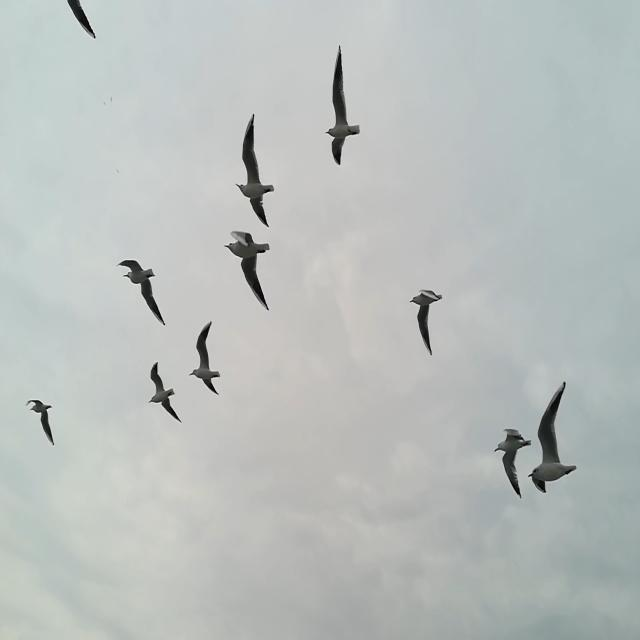bird: (526, 381, 576, 497), (235, 113, 276, 229), (324, 46, 362, 165), (223, 228, 271, 312), (118, 258, 167, 327), (493, 426, 532, 498), (188, 319, 222, 396), (408, 287, 445, 355), (148, 360, 183, 424), (25, 398, 57, 447), (67, 0, 98, 41), (115, 167, 121, 175), (110, 95, 113, 104), (103, 101, 106, 106)
